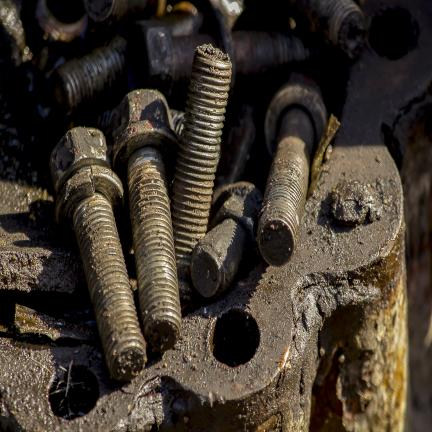besi_tidak_karat: (212, 230, 419, 431)
karat: (50, 43, 232, 380), (255, 86, 327, 273)
